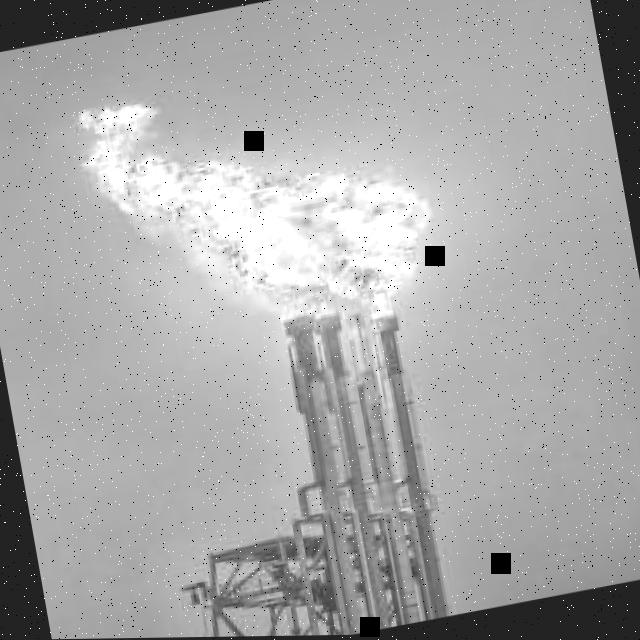fire: (78, 104, 435, 319)
smoke: (127, 110, 490, 312), (130, 213, 290, 312)
